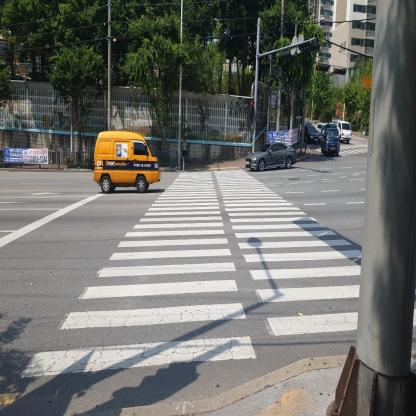Red: (250, 101, 254, 120)
